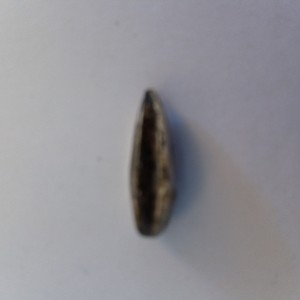girasol: (120, 85, 183, 239)
